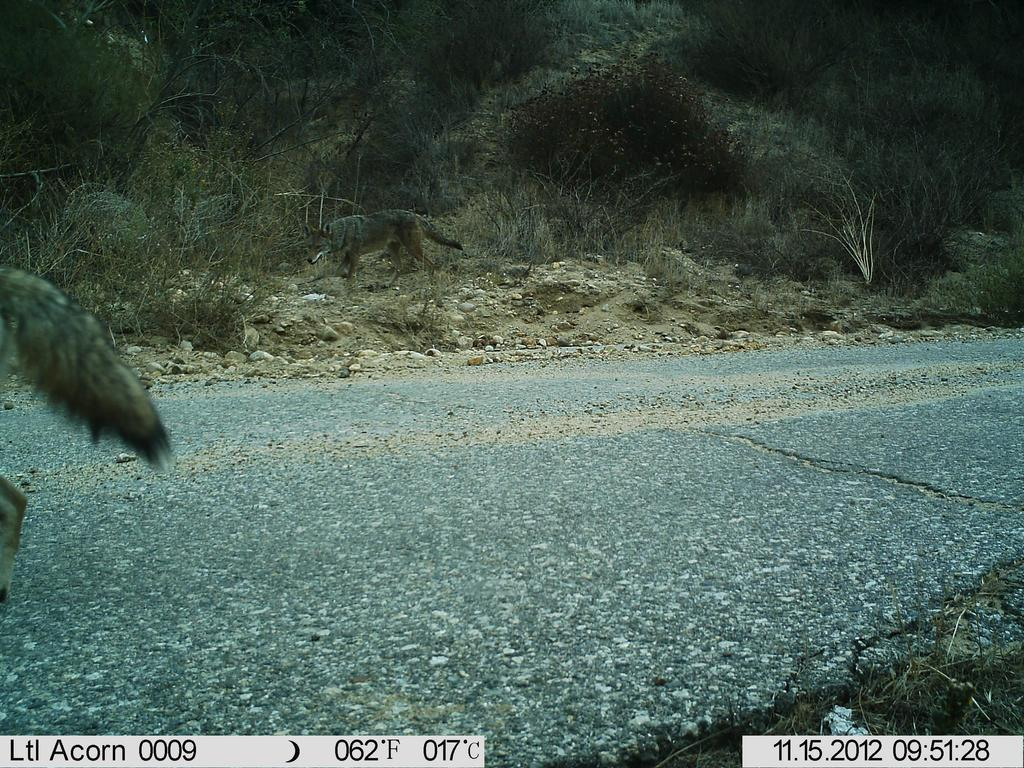coyote: (1, 257, 187, 615), (302, 209, 469, 299)
